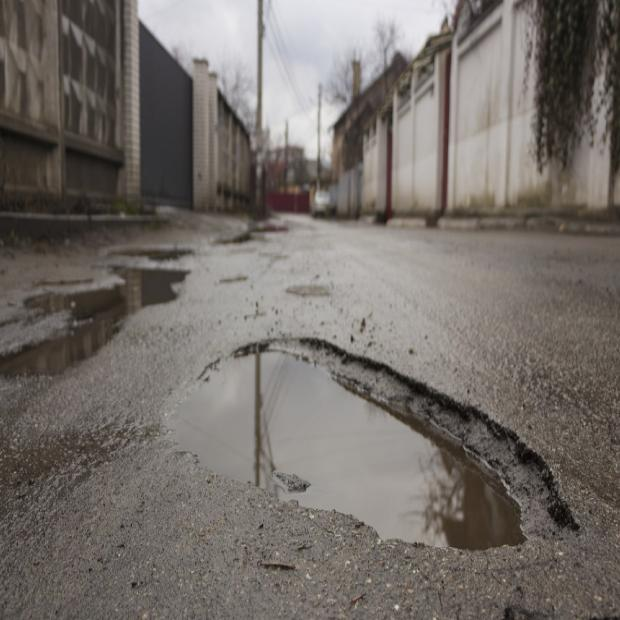lubang: (175, 336, 582, 547), (0, 268, 188, 375)
